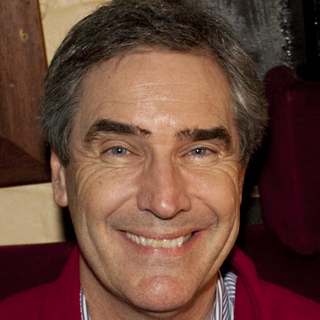eye: (96, 140, 143, 164), (180, 140, 224, 165)
